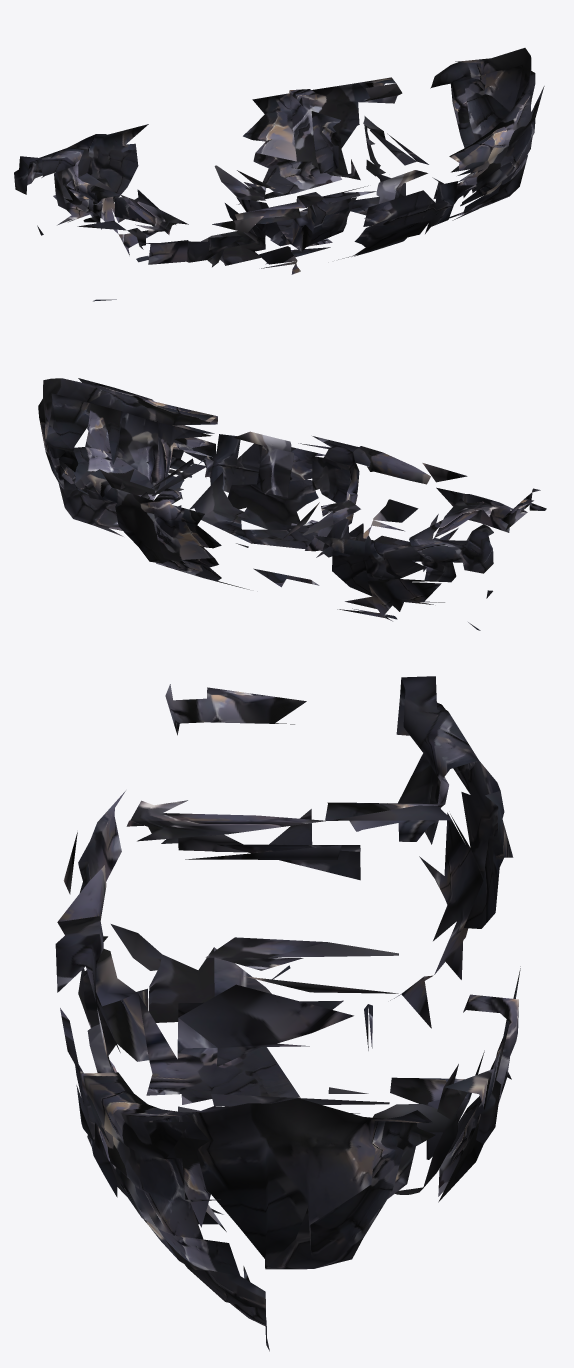
The model's file is RIP0 (2).obj.
The picture shows the model from 3 angles, top to bottom: view 1: azimuth 30°, elevation 25°; view 2: azimuth 150°, elevation 25°; view 3: azimuth 270°, elevation 25°; orthographic projection. The views are drawn at different scales.
Visible parts, largest first — view 1: RIP0; view 2: RIP0; view 3: RIP0.
Part boxes in pixels (left/top/right/bottom): RIP0: left=14, top=48, right=544, bottom=301; RIP0: left=38, top=378, right=546, bottom=630; RIP0: left=55, top=676, right=520, bottom=1351.
Bounding box in the file's own units: 1 × 0.3268 × 0.4153.
